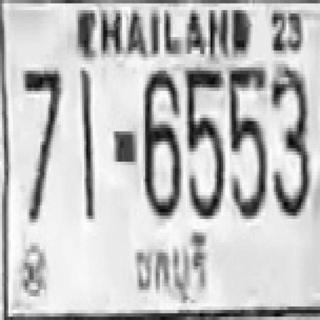N01: (79, 67, 94, 219)
N03: (270, 66, 308, 214)
N05: (183, 67, 223, 216), (227, 64, 265, 216)
N06: (143, 67, 179, 216)
N07: (22, 67, 60, 219), (22, 67, 60, 199)
P13: (129, 230, 210, 310)
